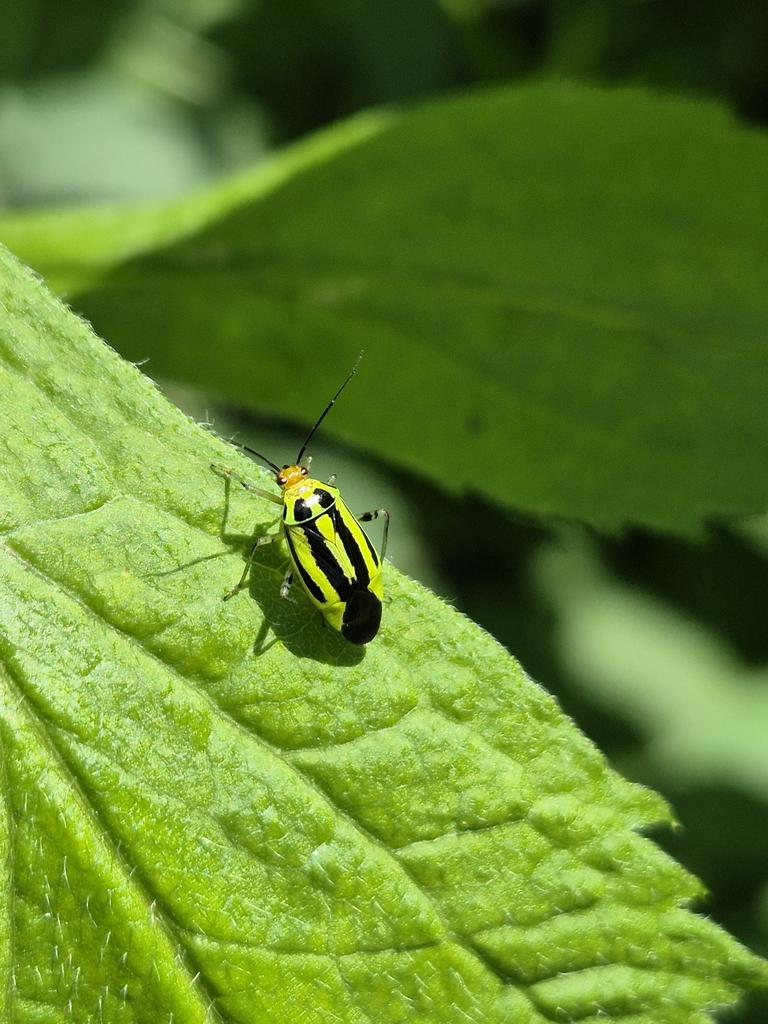plant_bugs: (166, 317, 460, 690)
